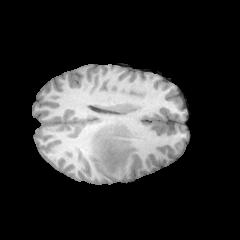glioma: (88, 123, 137, 173)
